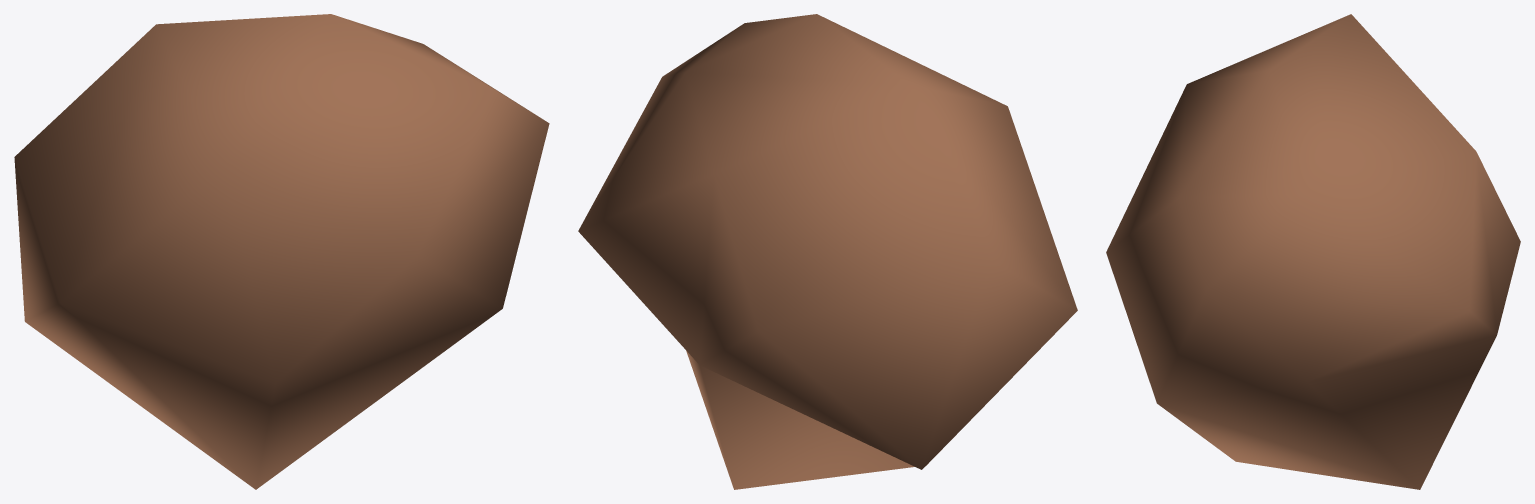
Rendered from rock_small_2.fbx.
The picture shows the model from 3 angles, left to right: view 1: azimuth 30°, elevation 25°; view 2: azimuth 150°, elevation 25°; view 3: azimuth 270°, elevation 25°; orthographic projection.
Parts seen in each view (by area): view 1: Rock generator addon.023; view 2: Rock generator addon.023; view 3: Rock generator addon.023.
Part boxes in pixels (bbox=[...]): Rock generator addon.023: bbox=[14, 14, 549, 489]; Rock generator addon.023: bbox=[578, 14, 1077, 489]; Rock generator addon.023: bbox=[1106, 14, 1520, 489].
Size of the model in its own units: 12.01 by 11.2 by 9.66.
